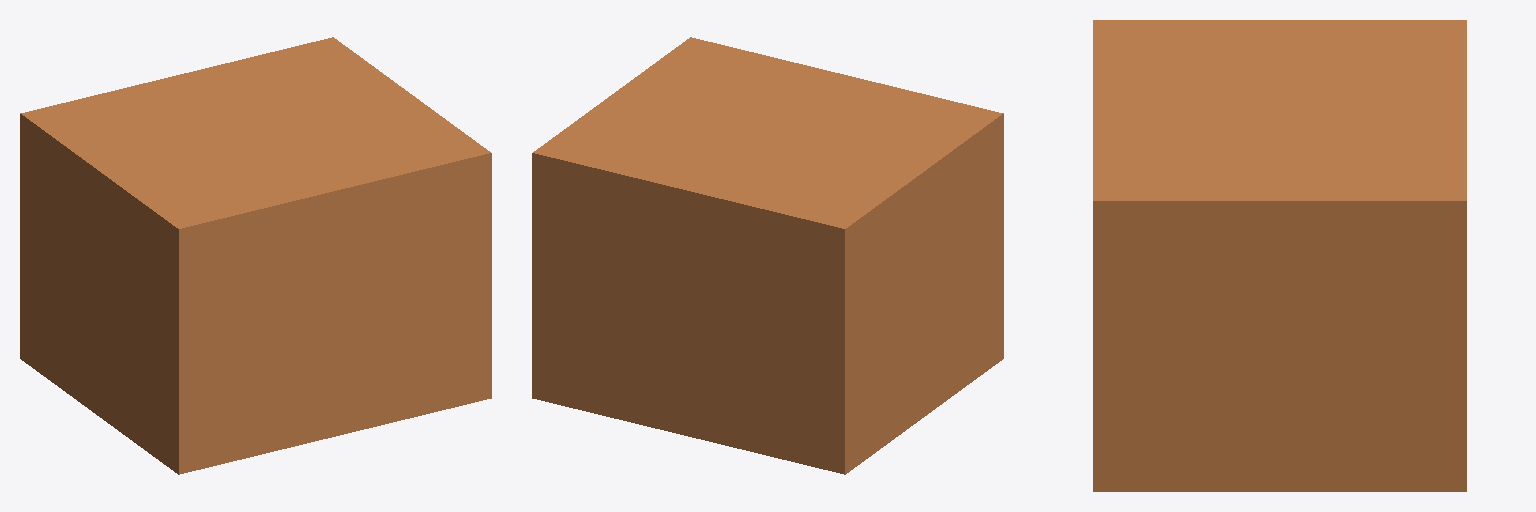
The robot description file, URDF, robot "allen_compact_table":
<?xml version="1.0"?>
<robot name="allen_compact_table">
  <link name="box">
    <visual>
      <material name="wood"><color rgba="0.82 0.56 0.35 1.0"/></material>
      <origin xyz="0 0 0"/>
      <geometry><box size="0.16 0.14 0.12"/></geometry>
    </visual>
    <collision>
      <origin xyz="0 0 0"/>
      <geometry><box size="0.16 0.14 0.12"/></geometry>
    </collision>
    <inertial>
      <mass value="500"/>
      <inertia ixx="1000" ixy="0" ixz="0" iyy="1000" iyz="0" izz="1000"/>
    </inertial>
  </link>
</robot>

--- What the picture shows (computed from the rendered views, not written in the file) ---
The picture shows the robot from 3 angles, left to right: view 1: azimuth 30°, elevation 25°; view 2: azimuth 150°, elevation 25°; view 3: azimuth 270°, elevation 25°; orthographic projection.
Robot: allen_compact_table — 1 links, 0 joints (none); root link box; default pose: every joint at zero.
Links seen in each view (by area): view 1: box; view 2: box; view 3: box.
Boxes of the visible links, box(x1,y1,x2,y2) form: box: box(20, 37, 491, 474); box: box(532, 37, 1003, 474); box: box(1093, 20, 1466, 491).
Bounding box of the posed robot: 0.16 × 0.14 × 0.12 m (x, y, z).
Geometry: primitives only (box / cylinder / sphere), no mesh files.
